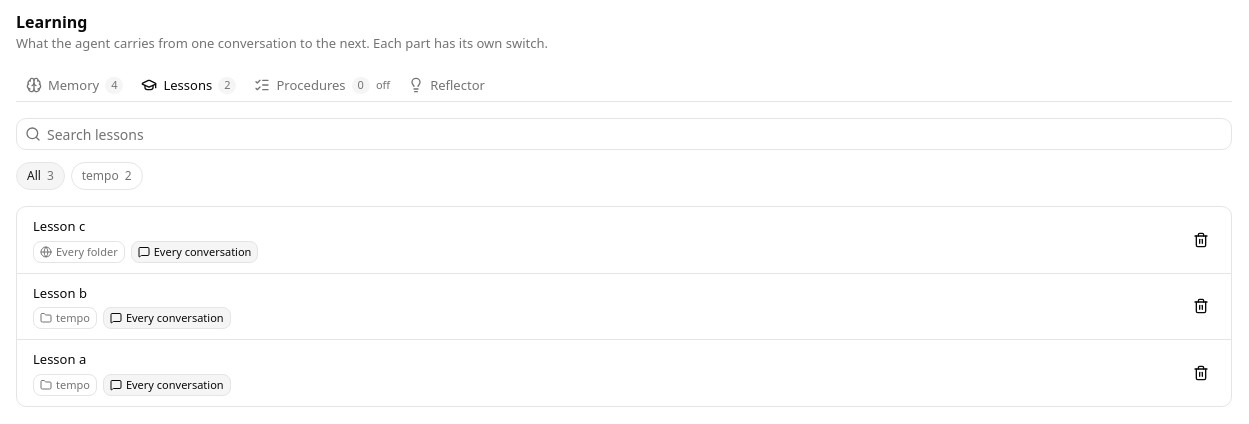
Test case: Learning filters › filters lessons by folder chip and by search
Click the button "tempo 2".
click(107, 176)  # box top-left (71, 162), bottom-right (143, 190)
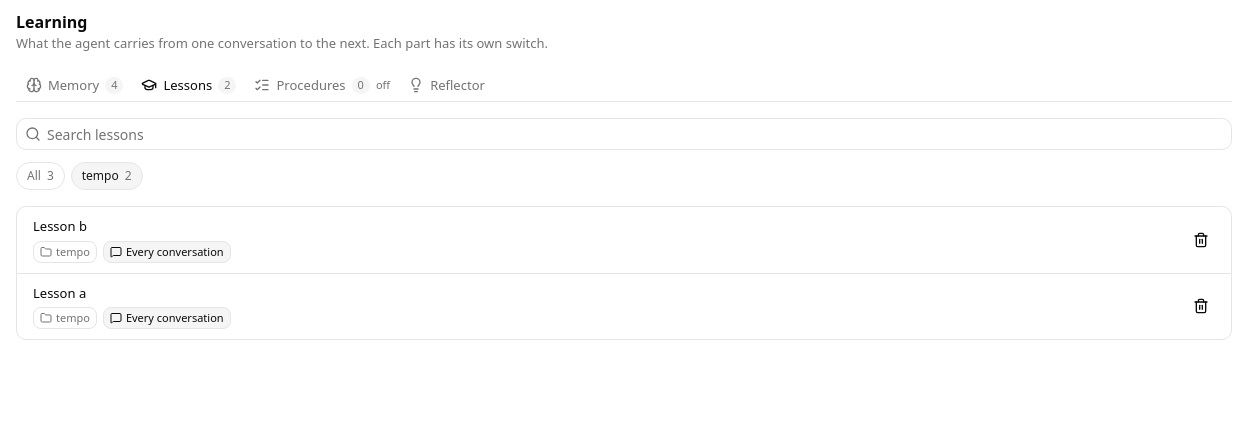
Expected: the text "Lesson a" is shown, top-left (33, 284), bottom-right (86, 302)
Result: the text "Lesson c" is gone
Click the button "All 3".
click(40, 176)  # box top-left (16, 162), bottom-right (65, 190)
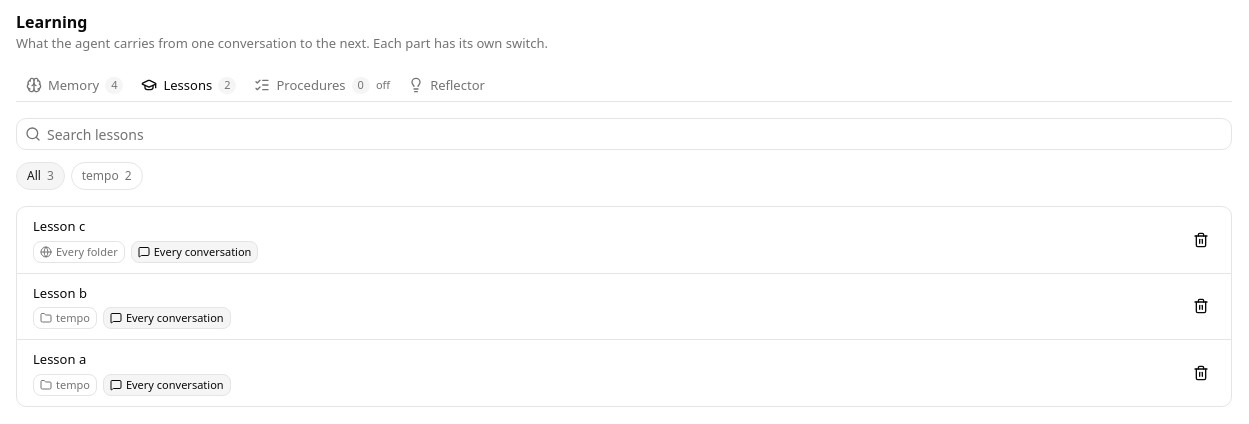
Type "nothing like it" into the search field labelled "Search lessons".
click(636, 134); type("nothing like it")  # box top-left (41, 118), bottom-right (1231, 150)
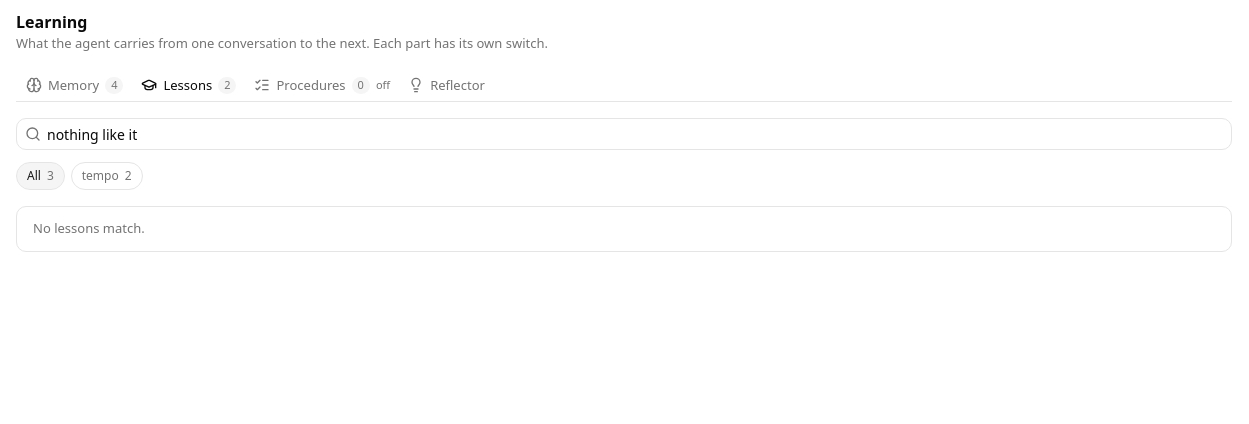
Expected: the button "All 3" is shown, top-left (16, 162), bottom-right (65, 190)
Result: the text "No lessons match." is shown at top-left (33, 219), bottom-right (145, 237)
